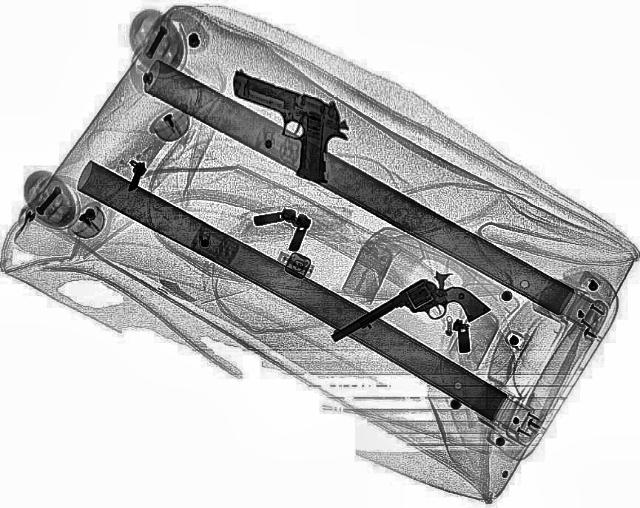Gun: (192, 71, 366, 185), (324, 266, 490, 376)
